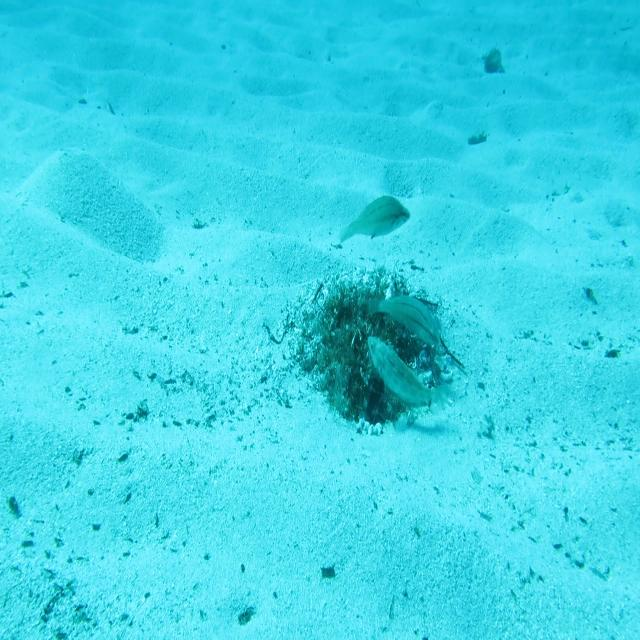DAN_CIRC: (366, 334, 449, 418)
core_nest: (347, 302, 392, 332)
female: (367, 290, 442, 352), (338, 193, 412, 244)
nest: (285, 261, 455, 447)
vegetation: (482, 46, 506, 77), (466, 127, 487, 147), (318, 562, 334, 578)
